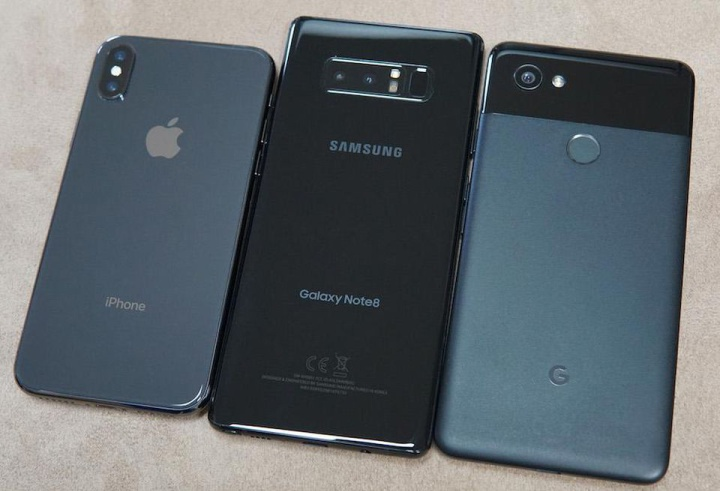apple: (135, 106, 202, 169)
